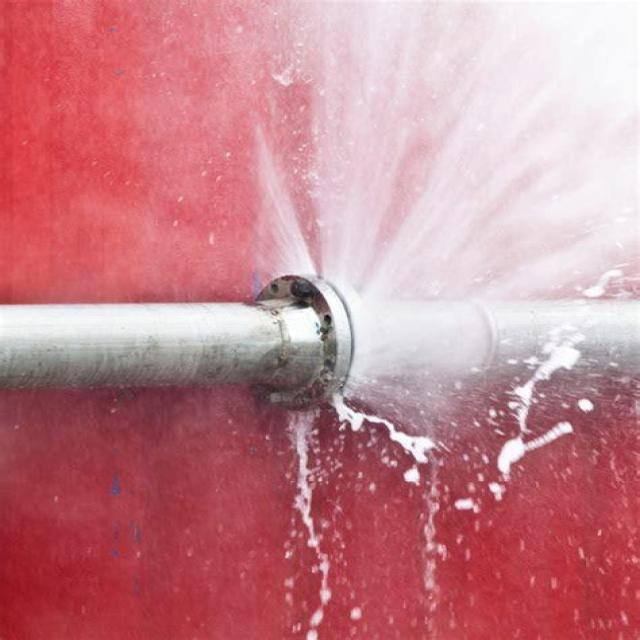Leak: (280, 275, 390, 411)
